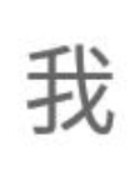TextView: (1, 1, 139, 174)
